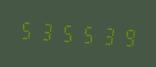five: (17, 15, 36, 44), (58, 18, 77, 46), (78, 20, 97, 48)
nine: (118, 22, 137, 51)
three: (37, 17, 56, 45), (98, 21, 117, 49)
